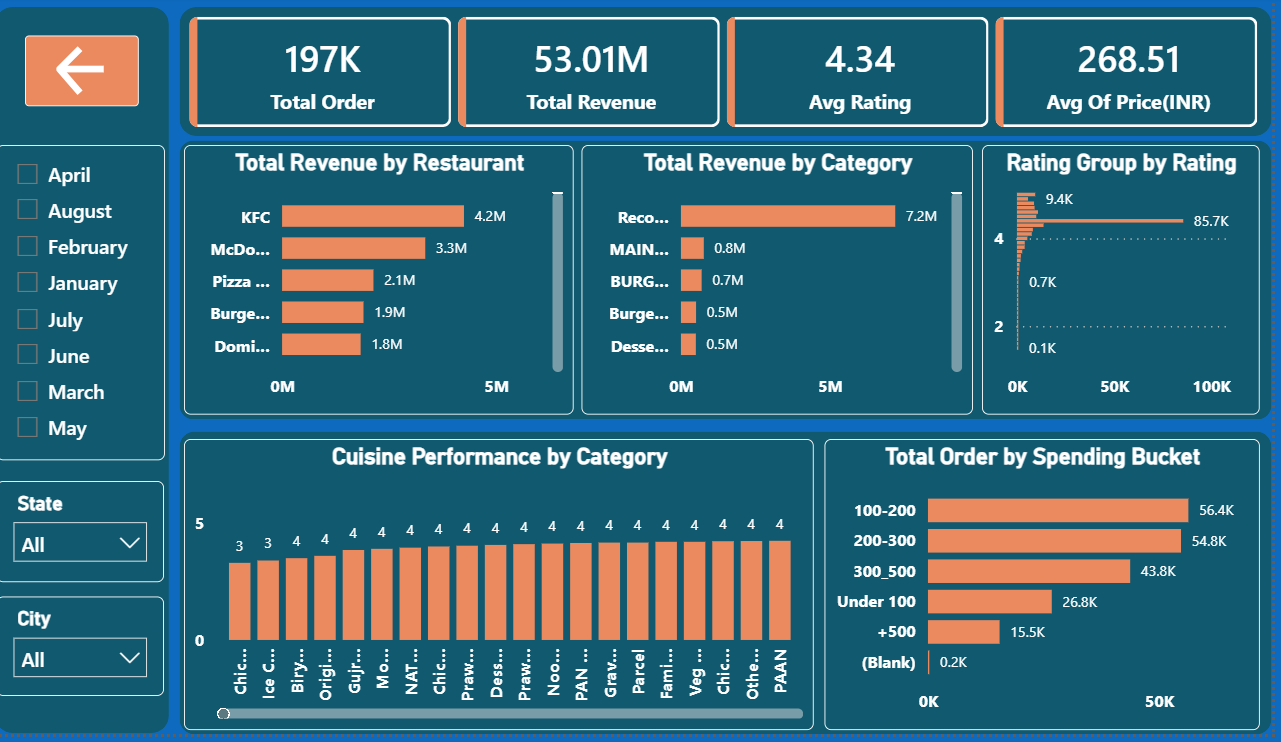

What the dashboard file says about the page in this screenshot:
{"tool":"powerbi","page":{"name":"Dashboard 2","canvas":[950,550],"ordinal":1},"visuals":[{"type":"shape","box":[542,82,408,448],"z":0},{"type":"shape","box":[0,0,125,530],"z":1000},{"type":"shape","box":[132.3,81.8,404,448.5],"z":2000},{"type":"shape","box":[133,3,817,72],"z":3000},{"type":"cardVisual","fields":{"Data":["swiggy_data.Total order"]},"box":[141,3,193,72],"z":4000},{"type":"cardVisual","fields":{"Data":["swiggy_data.Total Revenue"]},"box":[334,3,193,72],"z":5000},{"type":"cardVisual","fields":{"Data":["Avg(swiggy_data.Rating)"]},"box":[533,3,193,72],"z":6000},{"type":"slicer","fields":{"Values":["swiggy_data.Month Name"]},"box":[0,89,125,193],"z":7000},{"type":"cardVisual","fields":{"Data":["Avg(swiggy_data.Price (INR))"]},"box":[726,3,209,72],"z":8000},{"type":"slicer","fields":{"Values":["swiggy_data.State"]},"box":[0,298,125,62],"z":9000},{"type":"clusteredBarChart","fields":{"Category":["swiggy_data.Category"],"Y":["swiggy_data.Cuisine performance"]},"box":[133,89,394,434],"z":10000},{"type":"clusteredBarChart","fields":{"Category":["swiggy_data.Restaurant Name"],"Y":["swiggy_data.Total Revenue"]},"box":[551,89,392,431],"z":11000},{"type":"slicer","fields":{"Values":["swiggy_data.Location"]},"box":[0,381,125,64],"z":12000},{"type":"actionButton","box":[32,18,64,41],"z":13000}]}

Visuals, with their boxes in screenshot pixels (x1, y1, x2, y2), scaled from the page's 950x550 canvas onto the 1281x742 screenshot:
shape: <box>731,111,1280,715</box>
shape: <box>0,0,169,715</box>
shape: <box>178,110,723,715</box>
shape: <box>179,4,1280,101</box>
cardVisual - swiggy_data.Total order: <box>190,4,450,101</box>
cardVisual - swiggy_data.Total Revenue: <box>450,4,711,101</box>
cardVisual - Avg(swiggy_data.Rating): <box>719,4,979,101</box>
slicer - swiggy_data.Month Name: <box>0,120,169,380</box>
cardVisual - Avg(swiggy_data.Price (INR)): <box>979,4,1261,101</box>
slicer - swiggy_data.State: <box>0,402,169,486</box>
clusteredBarChart - swiggy_data.Category x swiggy_data.Cuisine performance: <box>179,120,711,706</box>
clusteredBarChart - swiggy_data.Restaurant Name x swiggy_data.Total Revenue: <box>743,120,1272,702</box>
slicer - swiggy_data.Location: <box>0,514,169,600</box>
actionButton: <box>43,24,129,80</box>
